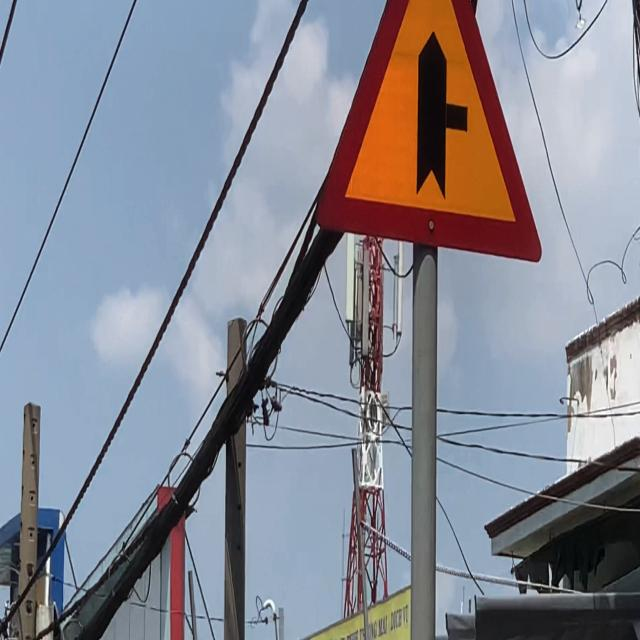Giao voi duong khong uu tien: (313, 0, 545, 271)
